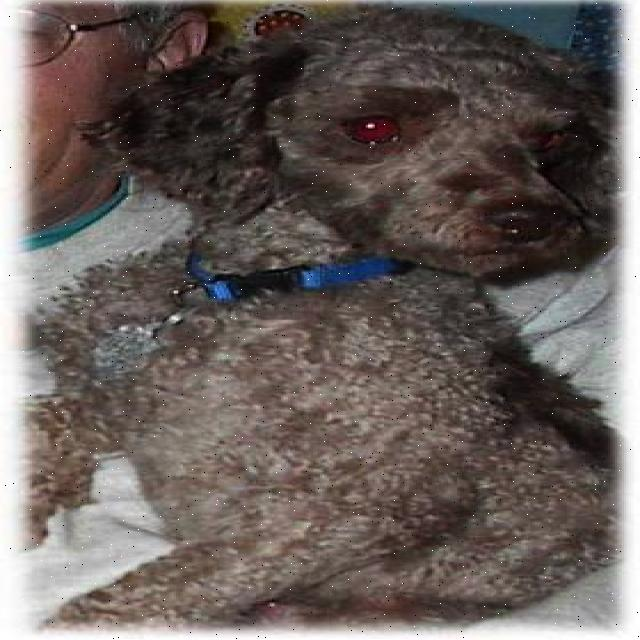Dog: (64, 6, 609, 302)
